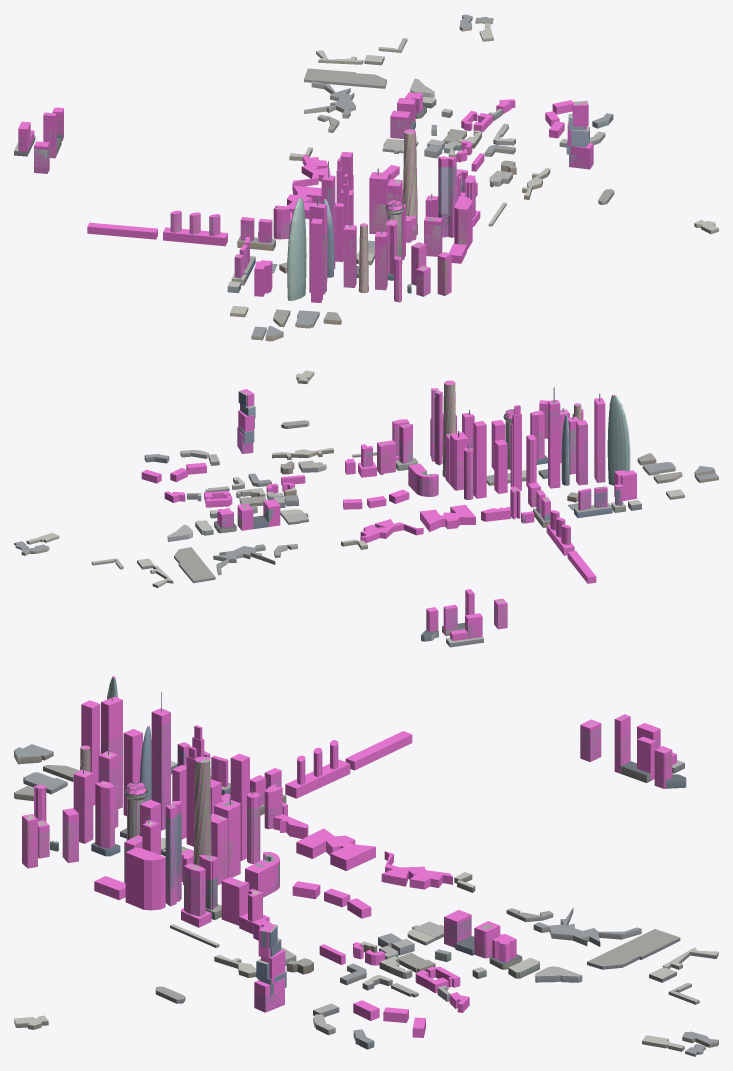
The model's file is bld_6_3.fbx.
3 renders of one model, top to bottom at view 1: azimuth 30°, elevation 25°; view 2: azimuth 150°, elevation 25°; view 3: azimuth 270°, elevation 25°, orthographic. The views are drawn at different scales.
Parts seen in each view (by area): view 1: bld_6_3_COL, bld_6_3_LOD0; view 2: bld_6_3_COL, bld_6_3_LOD0; view 3: bld_6_3_COL, bld_6_3_LOD0.
Part boxes in pixels (<box>): bld_6_3_COL: <box>18,92,593,302</box>; bld_6_3_LOD0: <box>14,14,718,341</box>; bld_6_3_COL: <box>141,380,636,640</box>; bld_6_3_LOD0: <box>14,370,718,647</box>; bld_6_3_COL: <box>22,676,676,1037</box>; bld_6_3_LOD0: <box>14,676,718,1056</box>.
Size of what is drawn, in the model's own units: 2123 by 421 by 1993.
